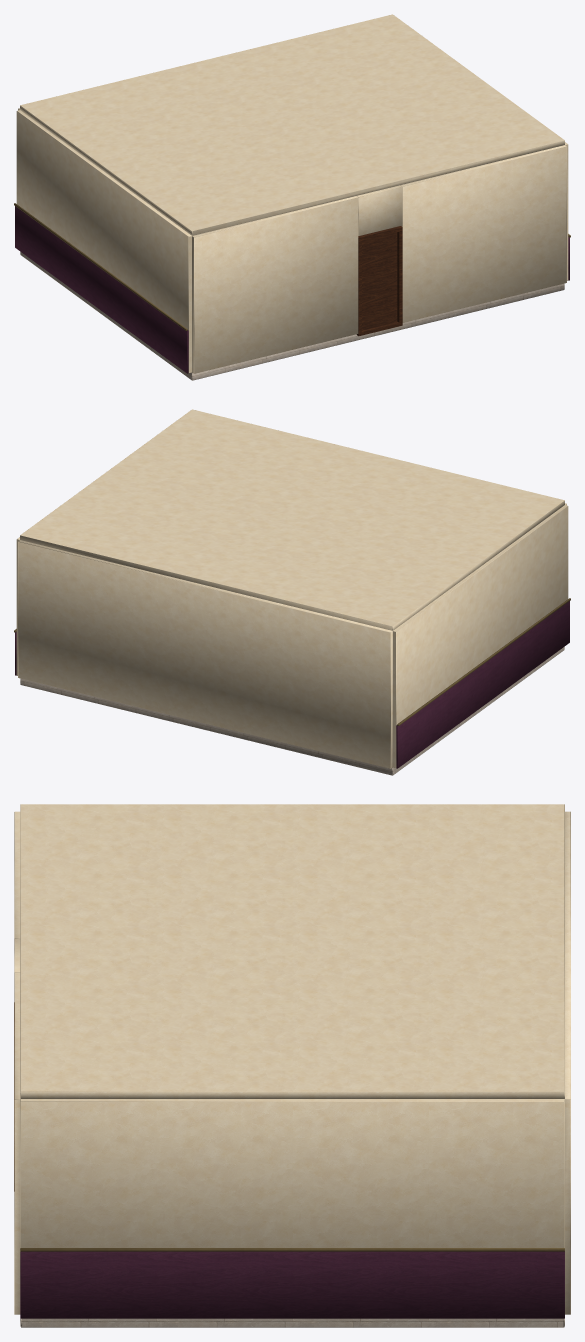
File: explore3d__refreshment_store.glb
The picture shows the model from 3 angles, top to bottom: view 1: azimuth 30°, elevation 25°; view 2: azimuth 150°, elevation 25°; view 3: azimuth 270°, elevation 25°; orthographic projection. The views are drawn at different scales.
Visible parts, largest first — view 1: Rebuilt_refreshment_store; view 2: Rebuilt_refreshment_store; view 3: Rebuilt_refreshment_store.
Part boxes in pixels (x1,y1,x2,y2): Rebuilt_refreshment_store: (14,14,570,380); Rebuilt_refreshment_store: (14,409,570,775); Rebuilt_refreshment_store: (14,804,570,1327).
Bounding box in the file's own units: 10.32 × 3.84 × 8.19.
14 materials, 13 textured.
